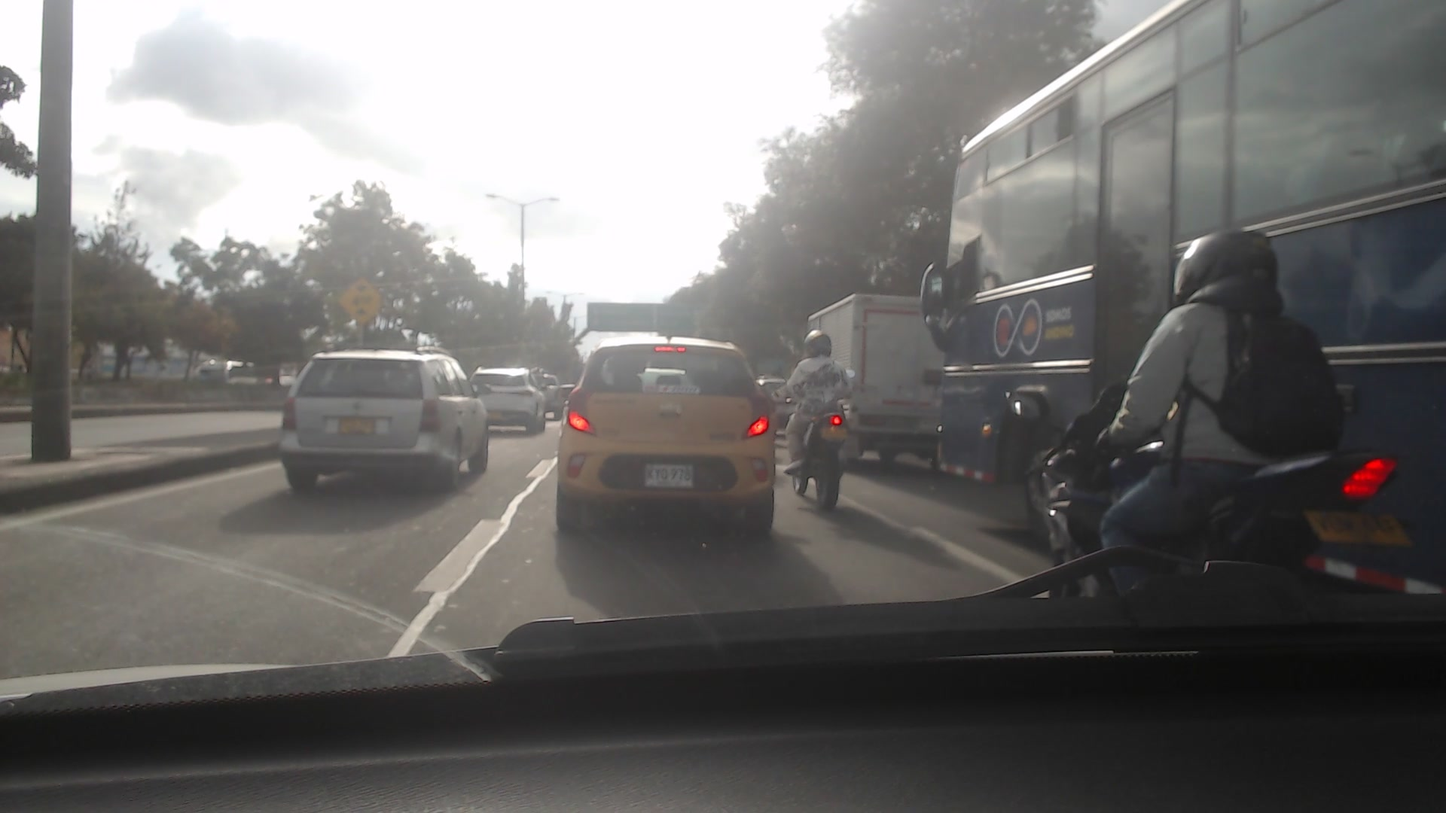car: (933, 0, 1446, 596), (553, 339, 780, 536), (282, 350, 493, 482), (468, 368, 547, 437)
motorcycle: (1024, 419, 1400, 607), (787, 413, 856, 508)
person: (1097, 220, 1332, 547), (780, 326, 856, 482)
